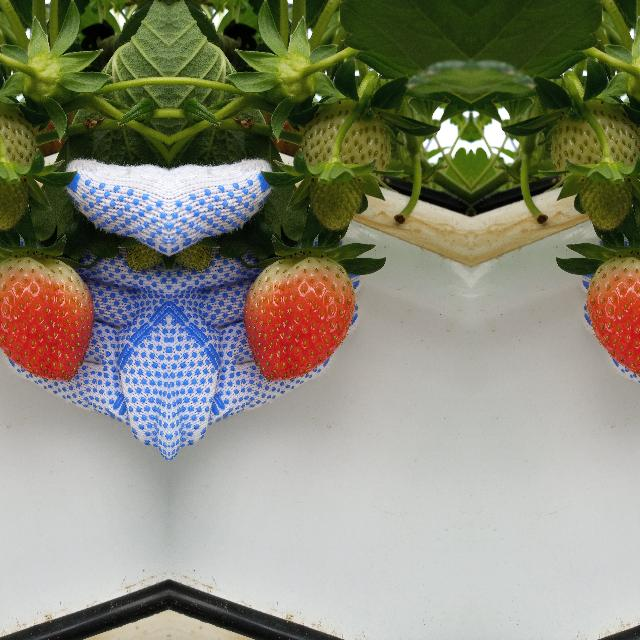Health_25: (294, 99, 394, 231), (546, 99, 640, 231), (0, 99, 42, 231)
Health_75: (242, 254, 356, 382), (0, 254, 94, 382), (585, 254, 640, 382)
